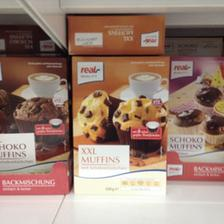Kuchen: (71, 53, 167, 197), (0, 54, 68, 194), (165, 51, 223, 182)
